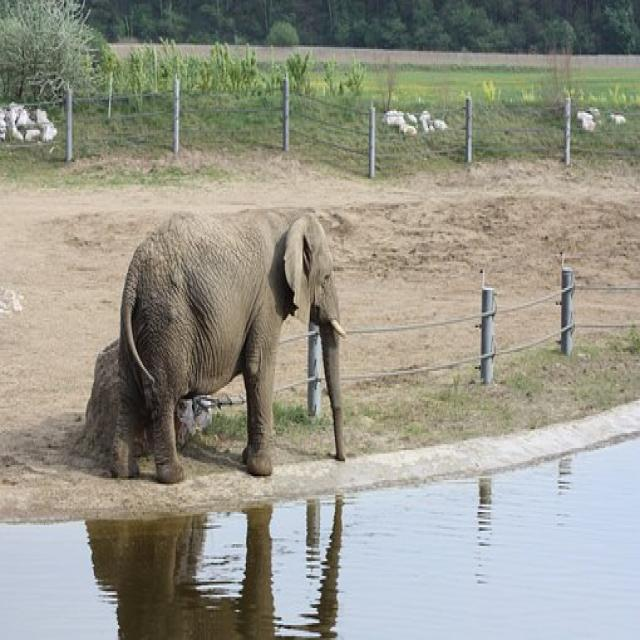Elephant: (114, 183, 370, 492)
